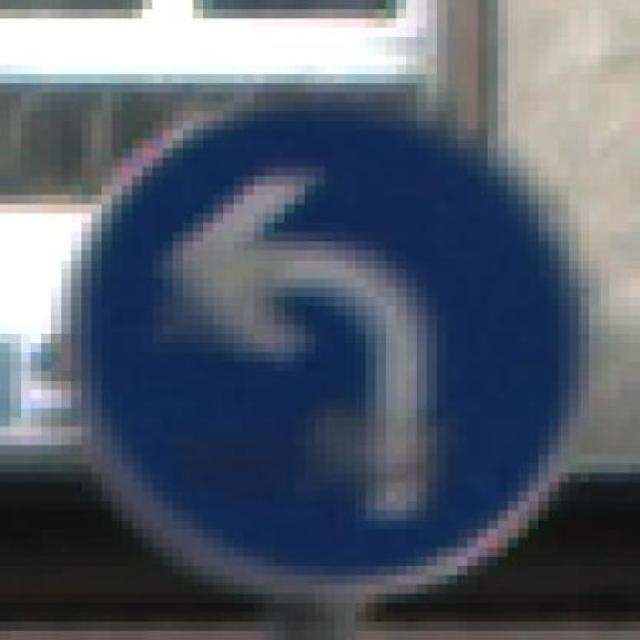Turn left ahead: (71, 102, 600, 593)
